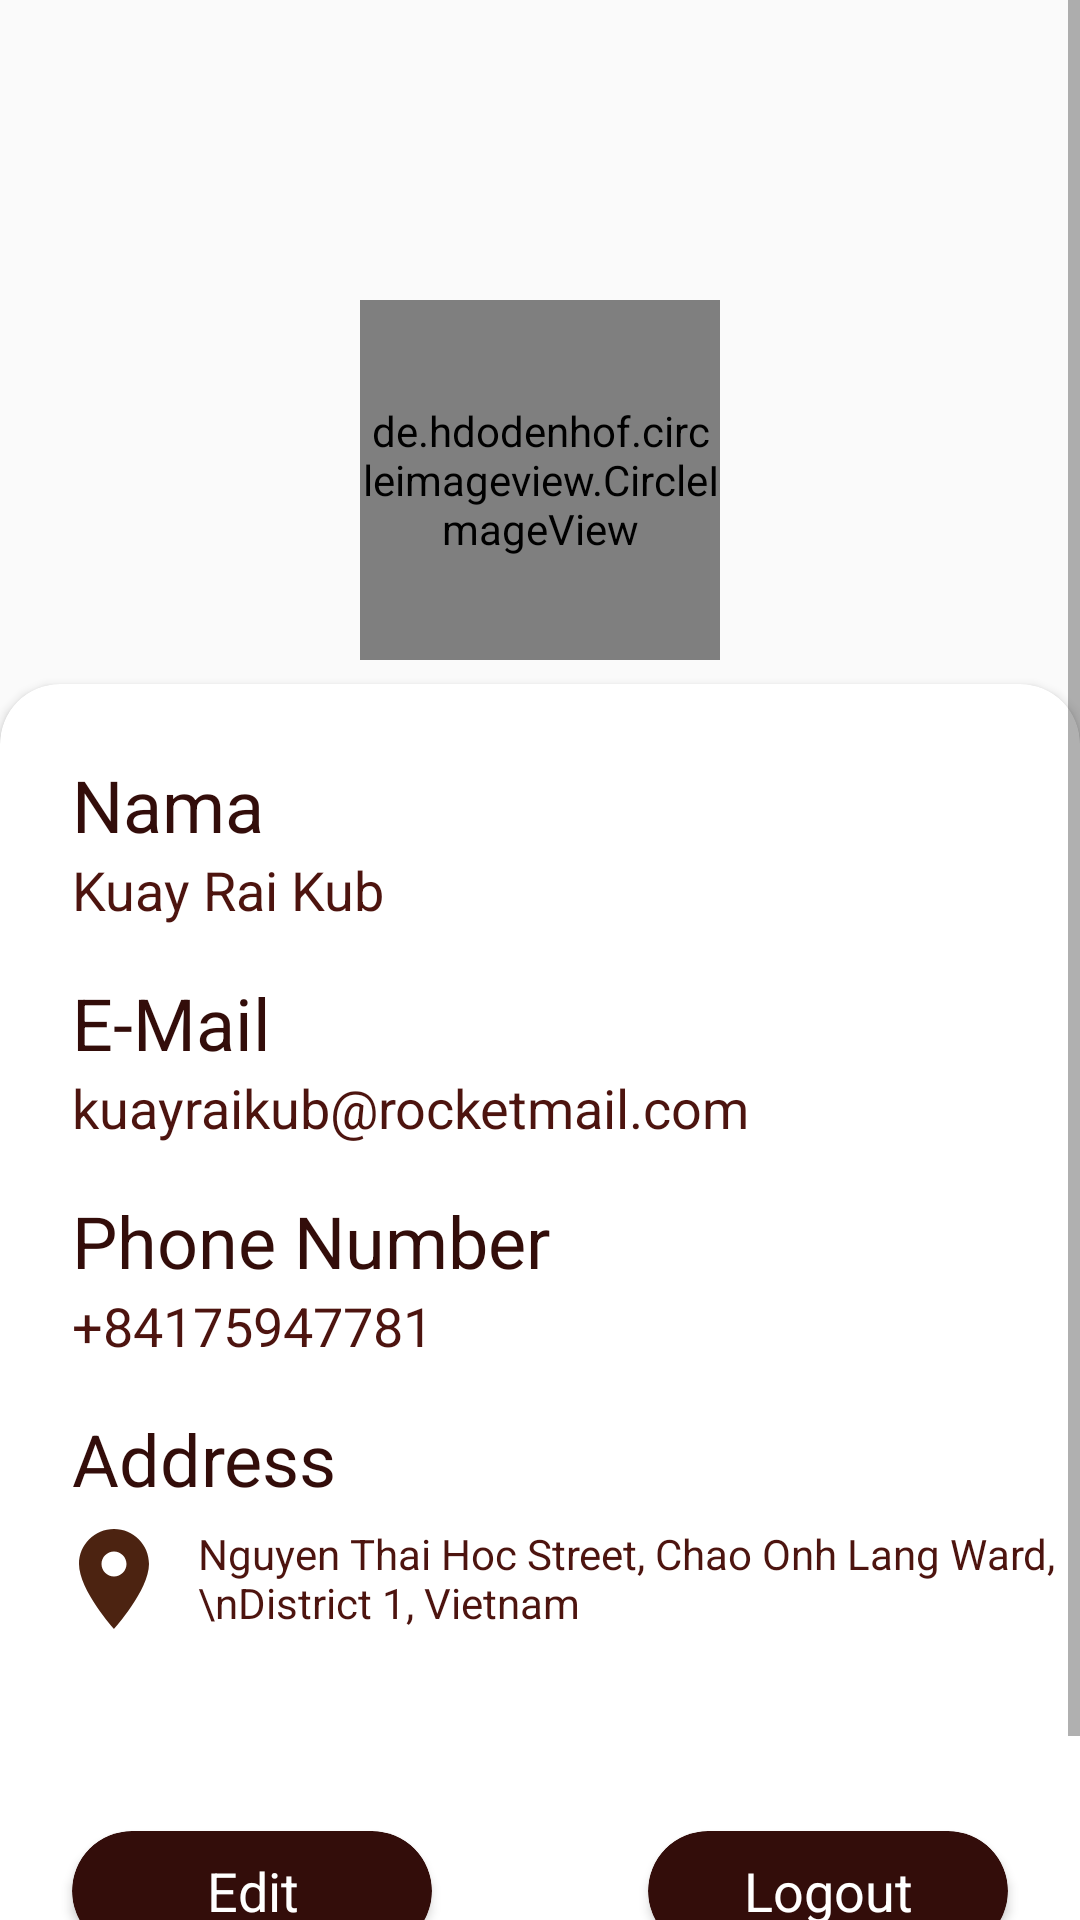

Screen size 1080px x 1920px. Icon name, then its box in pixels as (x1=x1, y1=y1, x2=x2, y2=y2):
location on: (x1=79, y1=1529, x2=149, y2=1629)
